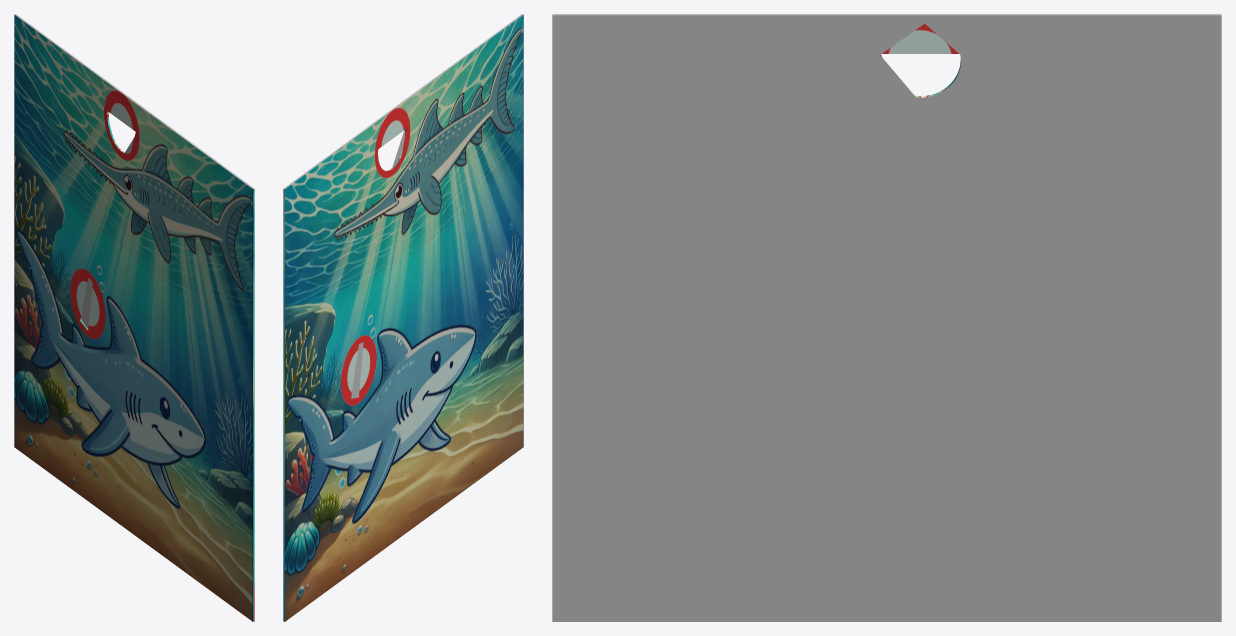
Rendered from TorpedoTag.obj.
3 views of the same model, side by side, from view 1: azimuth 30°, elevation 25°; view 2: azimuth 150°, elevation 25°; view 3: azimuth 270°, elevation 25° (orthographic). The views are drawn at different scales.
Visible parts, largest first — view 1: Cube; view 2: Cube; view 3: Cube.
Part boxes in pixels (x1,y1,x2,y2): Cube: (14,14,254,621); Cube: (283,14,523,621); Cube: (552,14,1221,621).
Size of the model in its own units: 0.00254 by 0.6096 by 0.6096.
2 materials, 1 textured.
